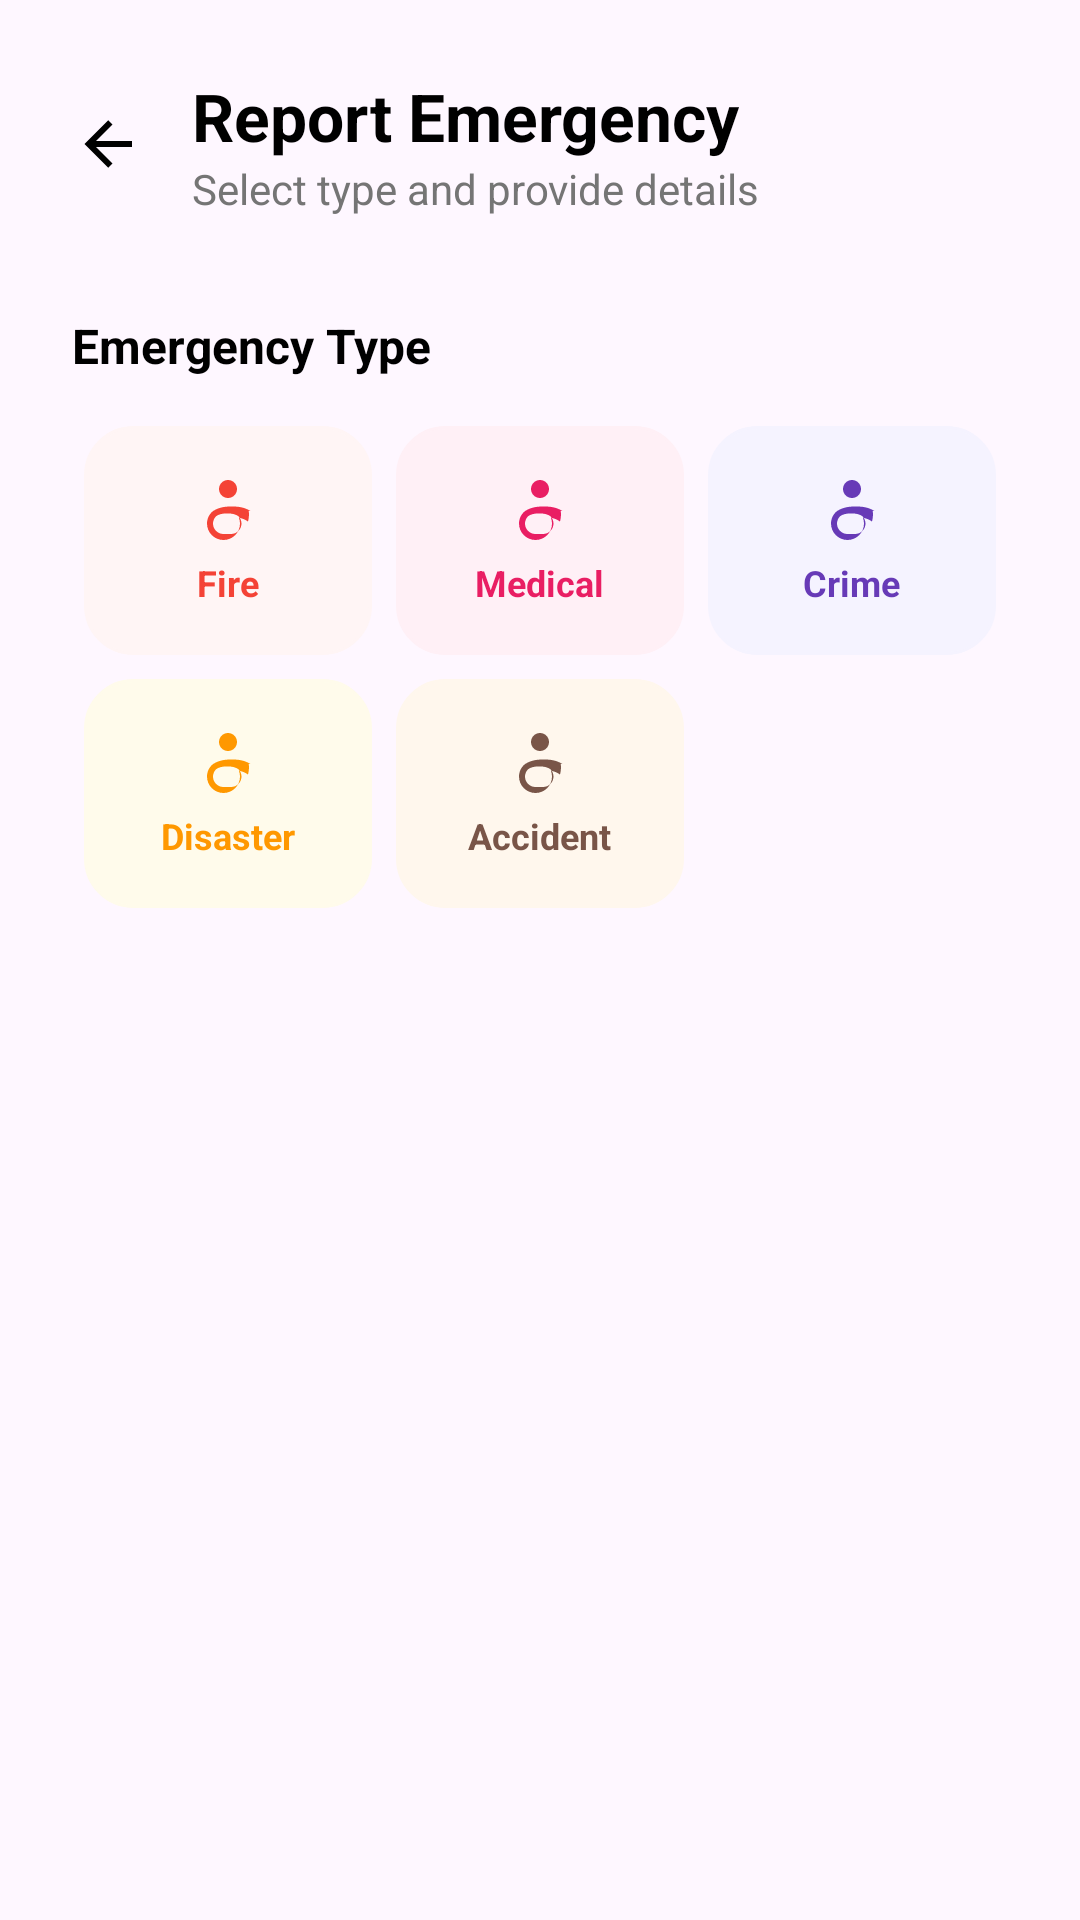

Where to tap for icons on this 1080 x 1920 app screen, as point (x, y):
back: point (108, 144)
